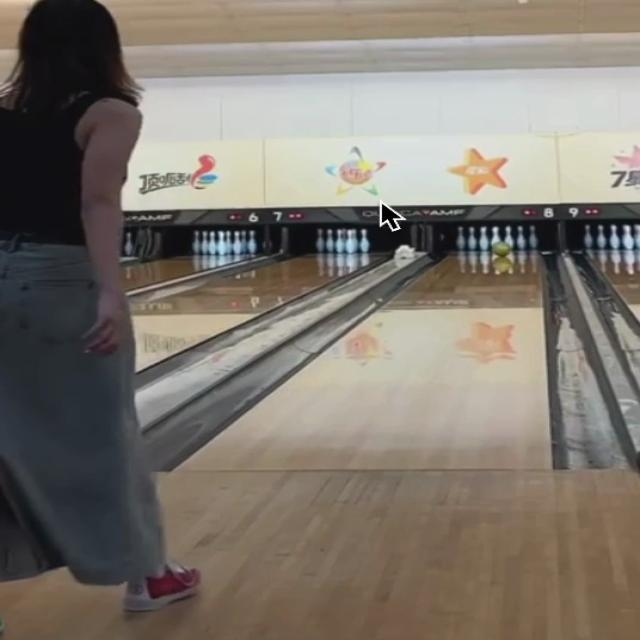alley: (184, 240, 548, 470)
balls: (492, 241, 511, 258)
bottle: (456, 225, 537, 252)
